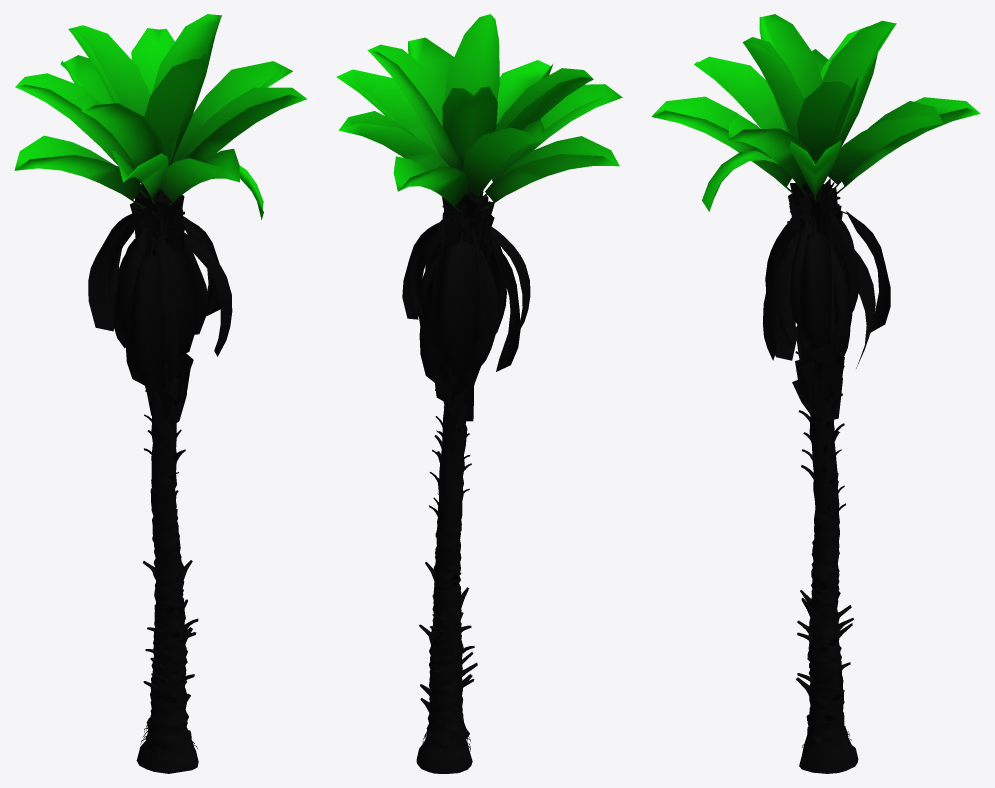
3 views of the same model, side by side, from view 1: azimuth 30°, elevation 25°; view 2: azimuth 150°, elevation 25°; view 3: azimuth 270°, elevation 25° (orthographic). The views are drawn at different scales.
Parts seen in each view (by area): view 1: SM_TR_DatePalm_15m_HD; view 2: SM_TR_DatePalm_15m_HD; view 3: SM_TR_DatePalm_15m_HD.
Part boxes in pixels (<box>): SM_TR_DatePalm_15m_HD: <box>14,14,306,773</box>; SM_TR_DatePalm_15m_HD: <box>336,14,622,773</box>; SM_TR_DatePalm_15m_HD: <box>651,14,980,773</box>.
Bounding box in the file's own units: 239 × 233 × 575.
